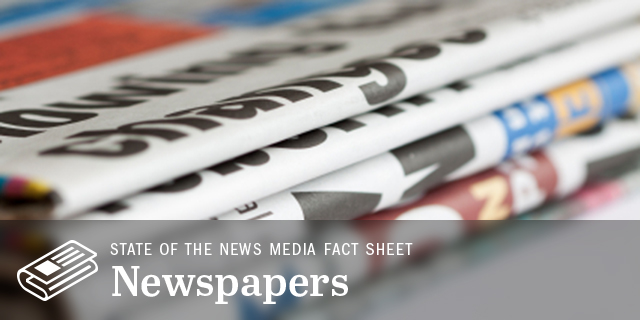news_paper: (3, 1, 640, 278), (21, 16, 640, 269), (62, 40, 640, 262), (177, 97, 640, 313)
